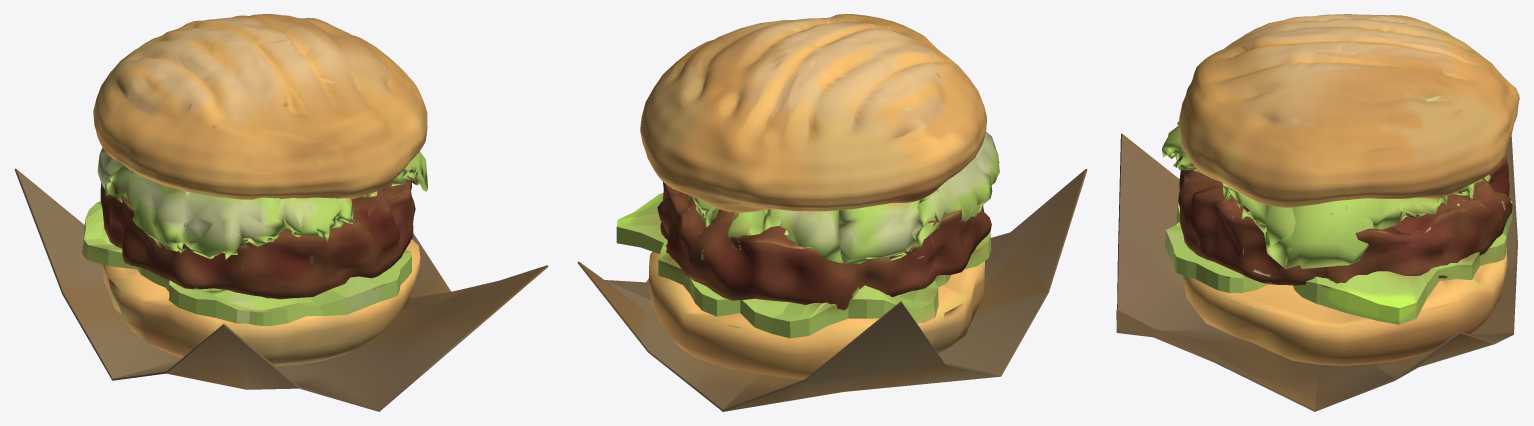
Rendered from hamburger.fbx.
3 renders of one model, left to right at view 1: azimuth 30°, elevation 25°; view 2: azimuth 150°, elevation 25°; view 3: azimuth 270°, elevation 25°, orthographic. The views are drawn at different scales.
Parts seen in each view (by area): view 1: 球体.013, 平面.002; view 2: 球体.013, 平面.002; view 3: 球体.013, 平面.002.
Part boxes in pixels (x1,y1,x2,y2): 球体.013: (82,14,427,366); 平面.002: (14,168,548,411); 球体.013: (616,14,999,379); 平面.002: (577,169,1087,411); 球体.013: (1162,14,1519,365); 平面.002: (1116,133,1517,411).
Size of the model in its own units: 202 by 165 by 206.
